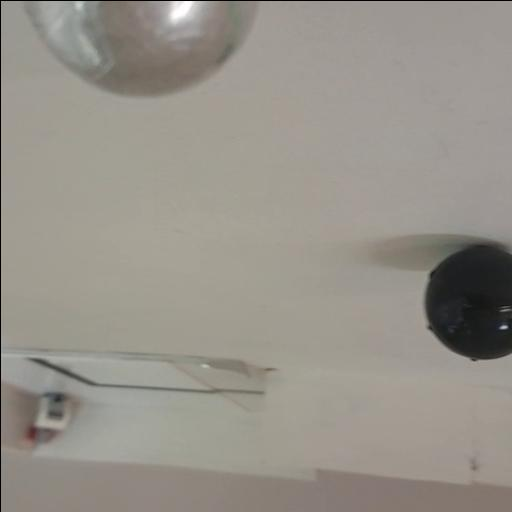alive: (16, 0, 264, 98)
dead: (422, 246, 512, 364)
